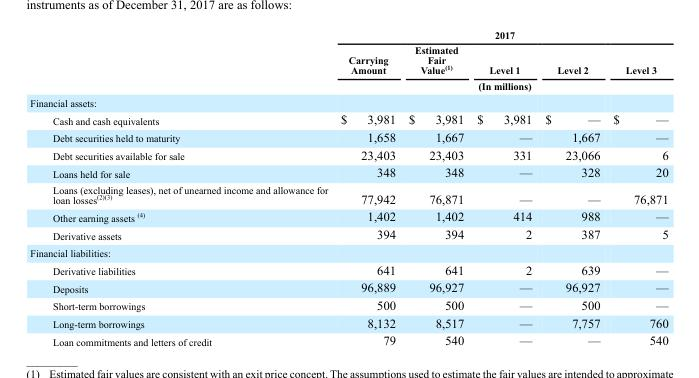table: (29, 29, 667, 346)
table column: (29, 29, 333, 346), (537, 29, 606, 346), (333, 29, 401, 346), (401, 29, 469, 346), (469, 29, 537, 346), (606, 29, 667, 346)
table column header: (29, 29, 667, 93)
table projected row header: (29, 93, 667, 110), (29, 244, 667, 260)
table row: (29, 42, 667, 77), (29, 181, 667, 207), (29, 225, 667, 244), (29, 127, 667, 145), (29, 145, 667, 163), (29, 163, 667, 181), (29, 207, 667, 225), (29, 260, 667, 278), (29, 295, 667, 313), (29, 313, 667, 331), (29, 93, 667, 110), (29, 110, 667, 127), (29, 278, 667, 295), (29, 77, 667, 93), (29, 244, 667, 260), (29, 331, 667, 346), (29, 29, 667, 42)
table spanning cell: (333, 77, 667, 93), (333, 29, 667, 42)
